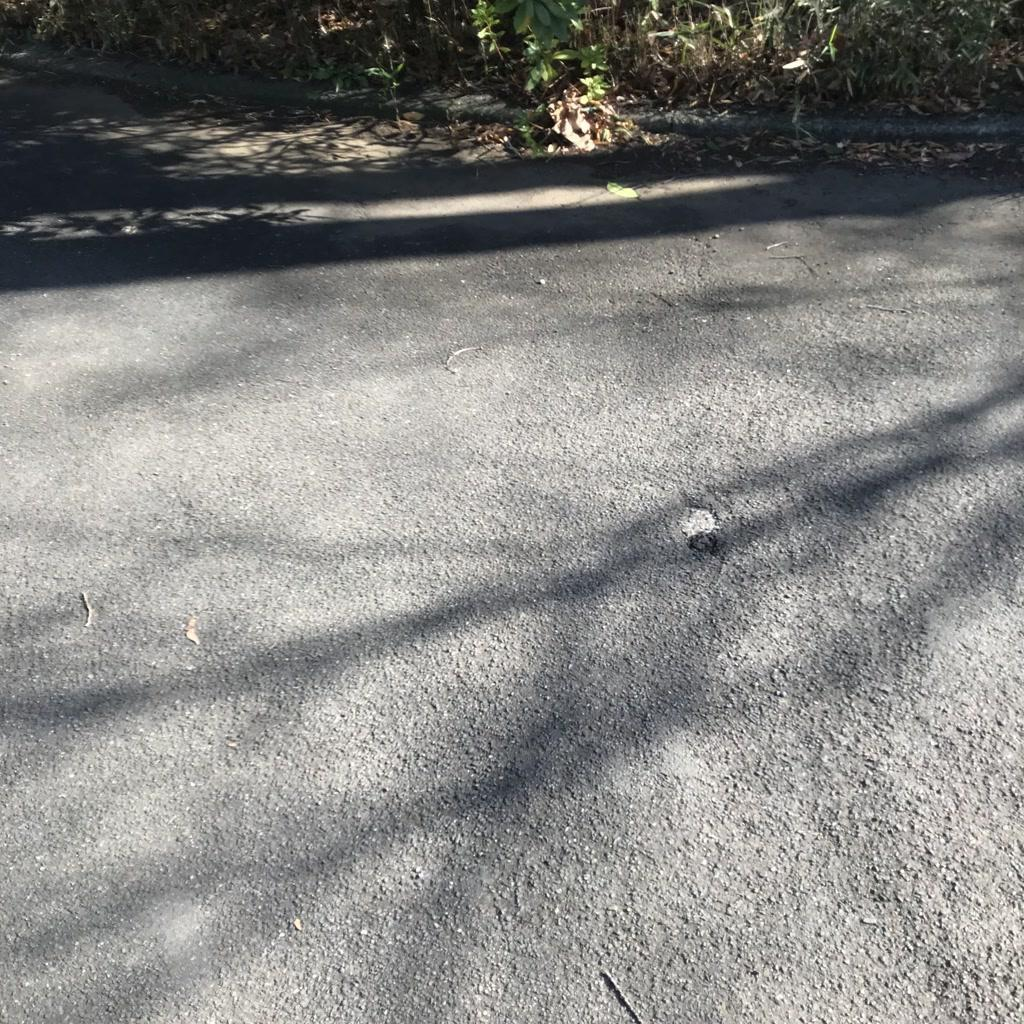pothole: (683, 497, 720, 553)
